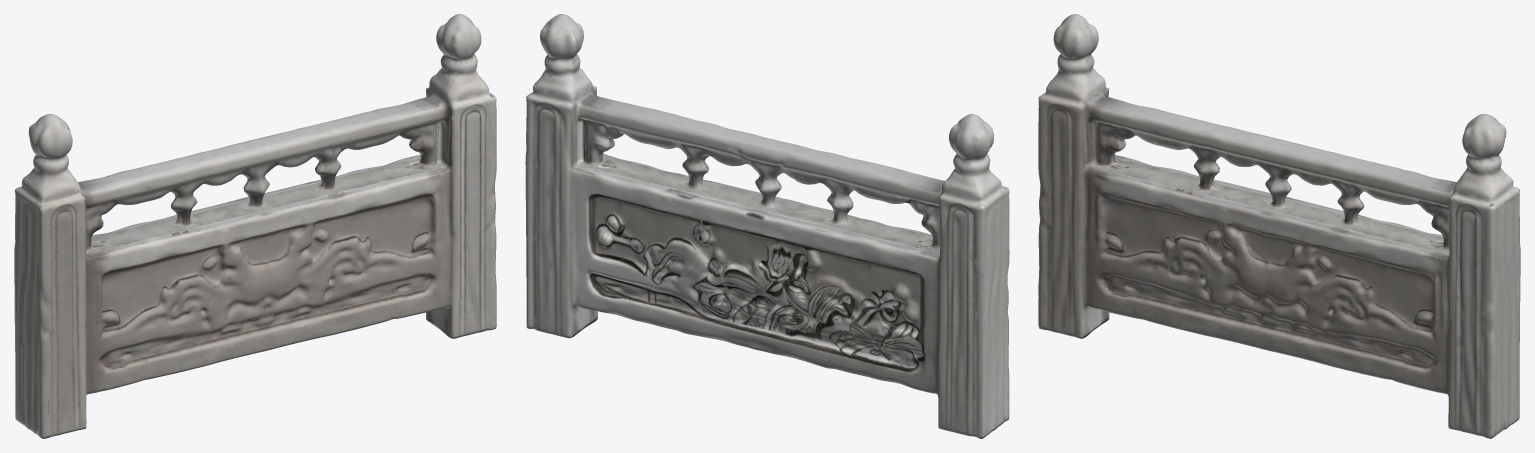
File: Stone_Railing_with_Lo_1126072759.fbx
3 views of the same model, side by side, from view 1: azimuth 30°, elevation 25°; view 2: azimuth 150°, elevation 25°; view 3: azimuth 330°, elevation 25° (orthographic).
Parts seen in each view (by area): view 1: Mesh_0.002; view 2: Mesh_0.002; view 3: Mesh_0.002.
Boxes of the visible parts, <box> form: Mesh_0.002: <box>14,14,496,438</box>; Mesh_0.002: <box>525,14,1009,438</box>; Mesh_0.002: <box>1038,14,1520,438</box>.
Size of the model in its own units: 201 by 130 by 21.51.
Materials: 1 (1 with a texture image).
